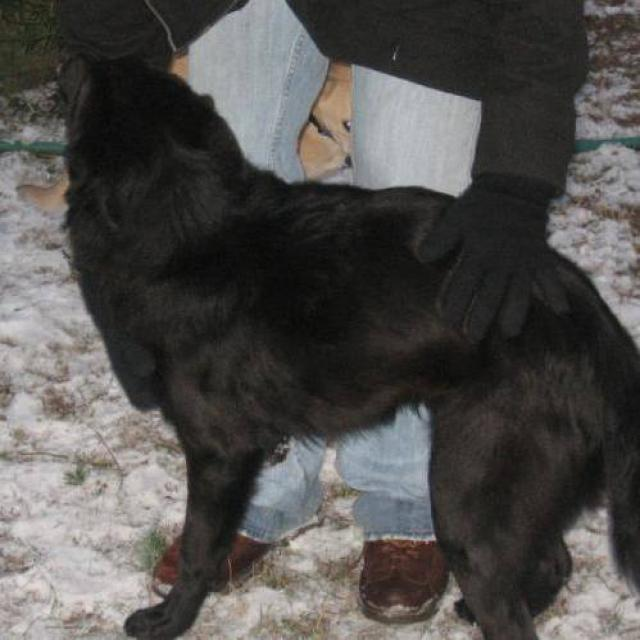dog: (54, 49, 639, 639)
